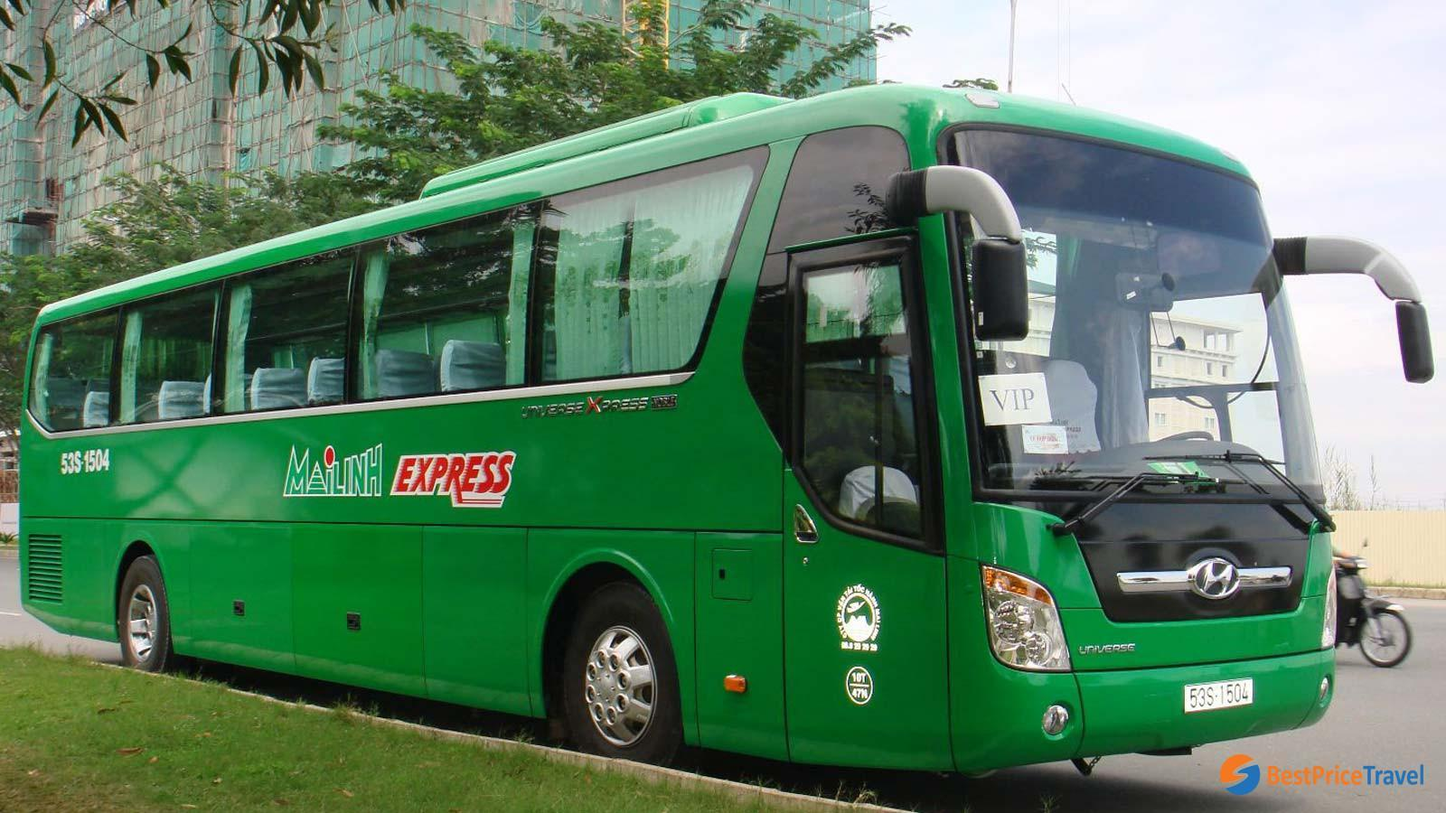Bus: (13, 85, 1406, 780)
